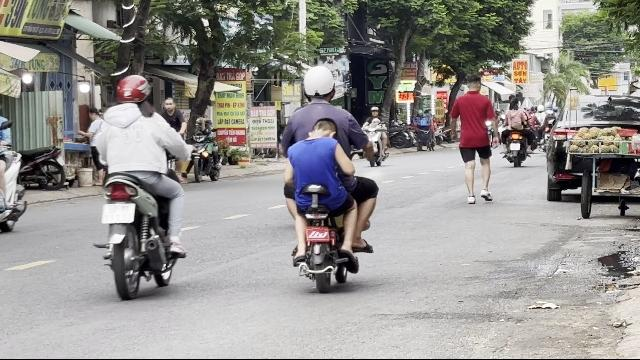helmet: (302, 65, 336, 103), (114, 74, 150, 108)
licenseplate: (102, 204, 134, 224)
motorcyclist: (276, 62, 380, 296), (87, 72, 191, 298)
nohelmet: (304, 116, 338, 150)
